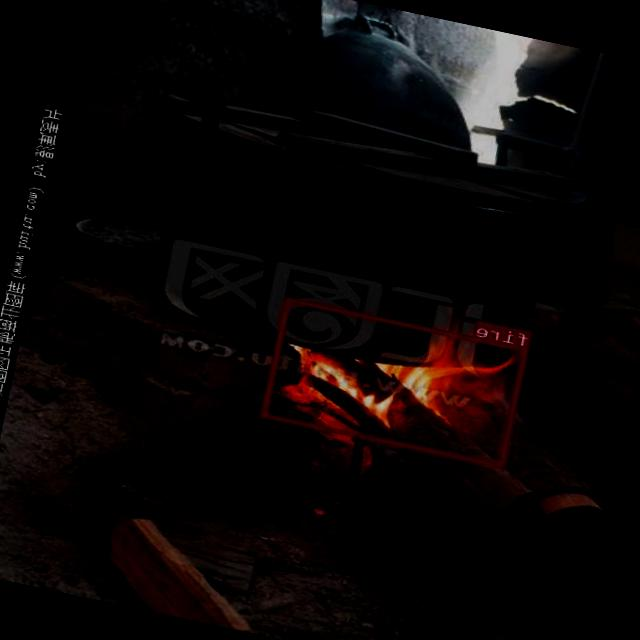fire: (261, 296, 530, 468)
